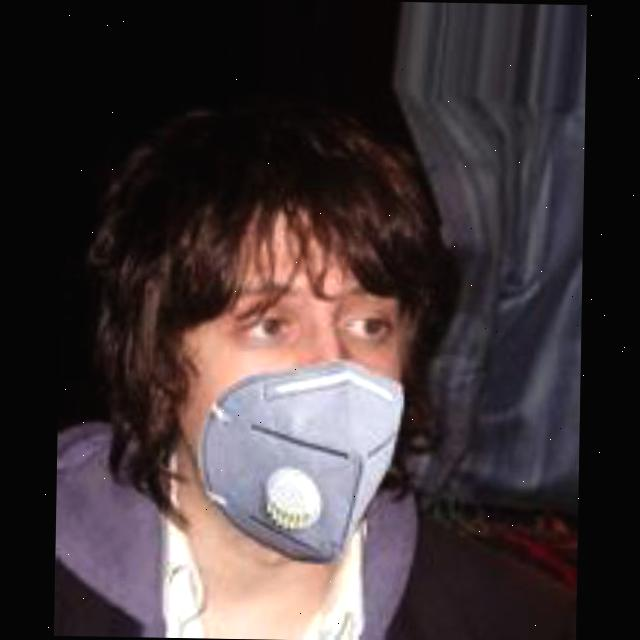suspicion: (105, 172, 417, 586)
